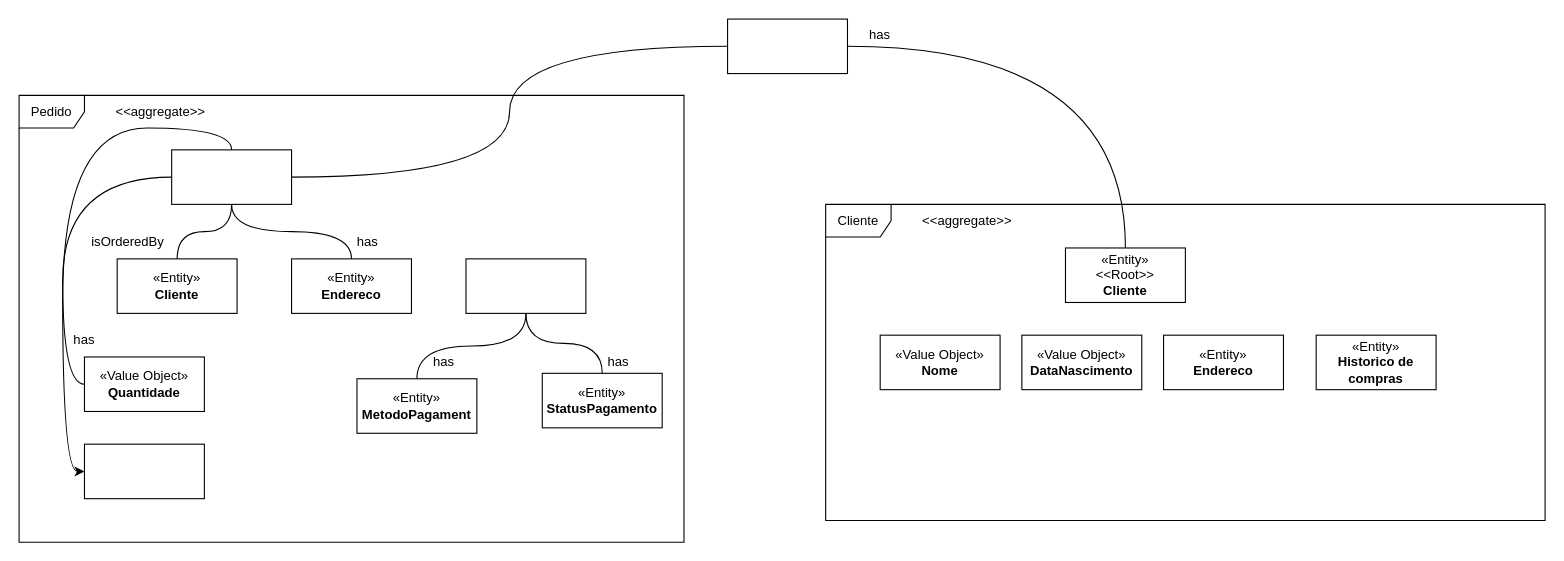
Some shapes in this 1564 by 561 pixel diagram are drawn without their labels. Each missing label, with the centre of its shape:
"«Entity» <<Root>> Pedido" goes at point (231, 176).
"«Entity» Pagamento" goes at point (525, 285).
"«Value Object» Cliente ID" goes at point (786, 46).
"«Value Object» Preco" goes at point (143, 471).
